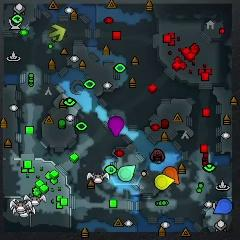p1: (212, 198, 233, 216)
p2: (119, 165, 136, 182)
p3: (108, 116, 124, 136)
p4: (155, 174, 174, 190)
p5: (163, 166, 180, 185)
x2: (48, 24, 66, 42)
